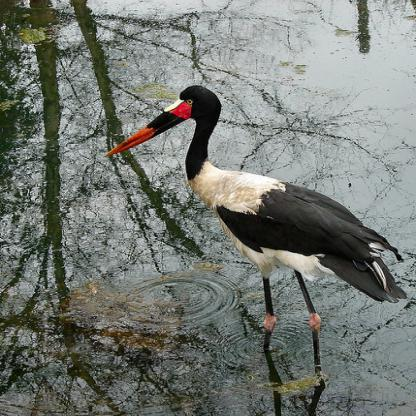bird: (104, 84, 408, 365)
